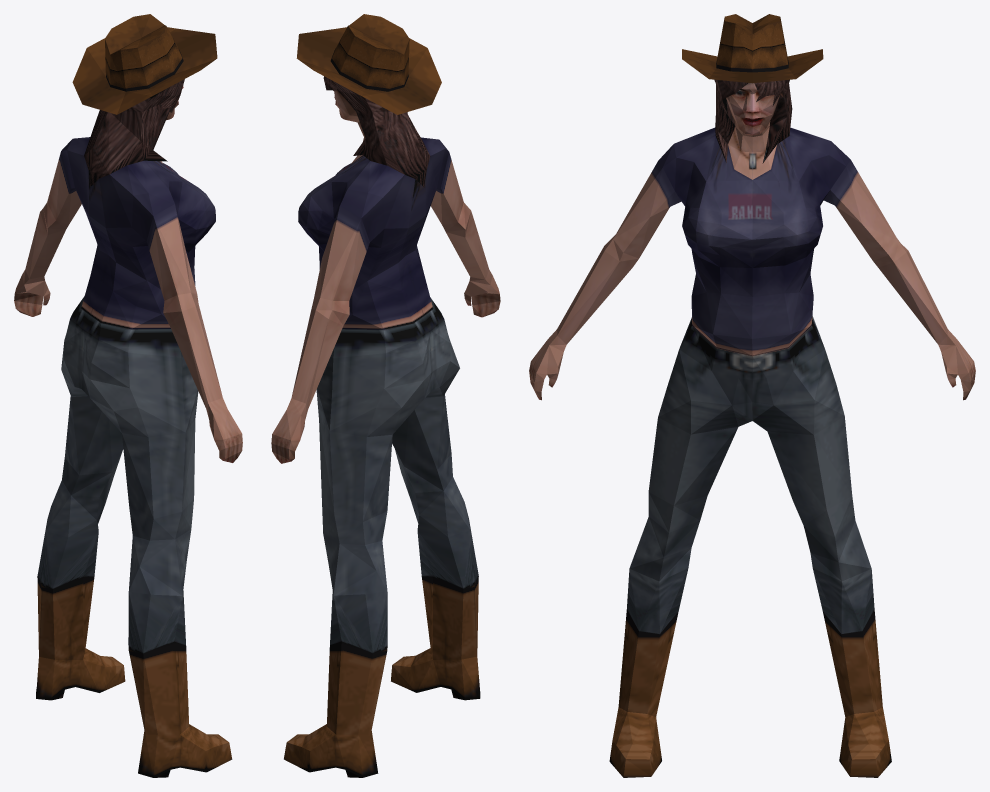
The model's file is cwfyfr1.obj.
The picture shows the model from 3 angles, left to right: view 1: azimuth 30°, elevation 25°; view 2: azimuth 150°, elevation 25°; view 3: azimuth 270°, elevation 25°; orthographic projection. The views are drawn at different scales.
Parts seen in each view (by area): view 1: _Pelvis; view 2: _Pelvis; view 3: _Pelvis.
Part boxes in pixels (x1,y1,x2,y2): _Pelvis: (14, 14, 242, 777); _Pelvis: (271, 14, 500, 777); _Pelvis: (529, 14, 975, 777).
Bounding box in the file's own units: 0.3754 × 1.82 × 0.9832.
1 material, 1 textured.
